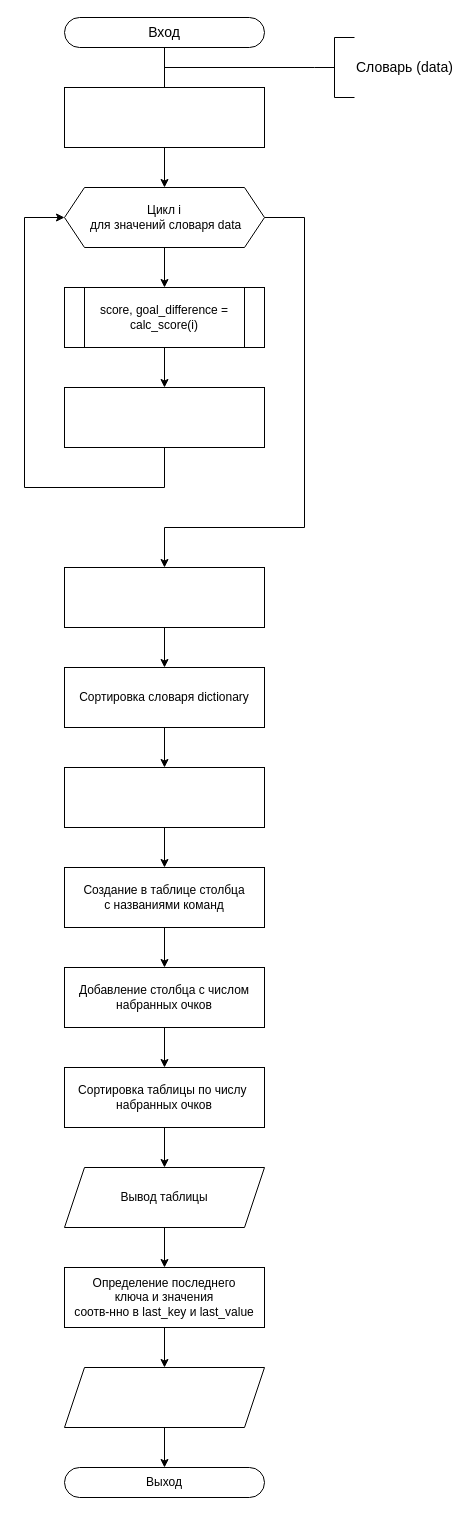
Some shapes in this 471 by 1515 pixel diagram are drawn without their labels. Here are the shapes that lost their labels. From the top down, the box of each, then its label:
(64, 86, 264, 148): Объявление массива scores
(64, 386, 264, 448): Добавление в массив scores элемента score
(64, 566, 264, 628): Создание словаря dictionary из ключей data и элементов массива scores
(64, 766, 264, 828): Объявление таблицы table
(64, 1366, 264, 1428): Вывод победителя
